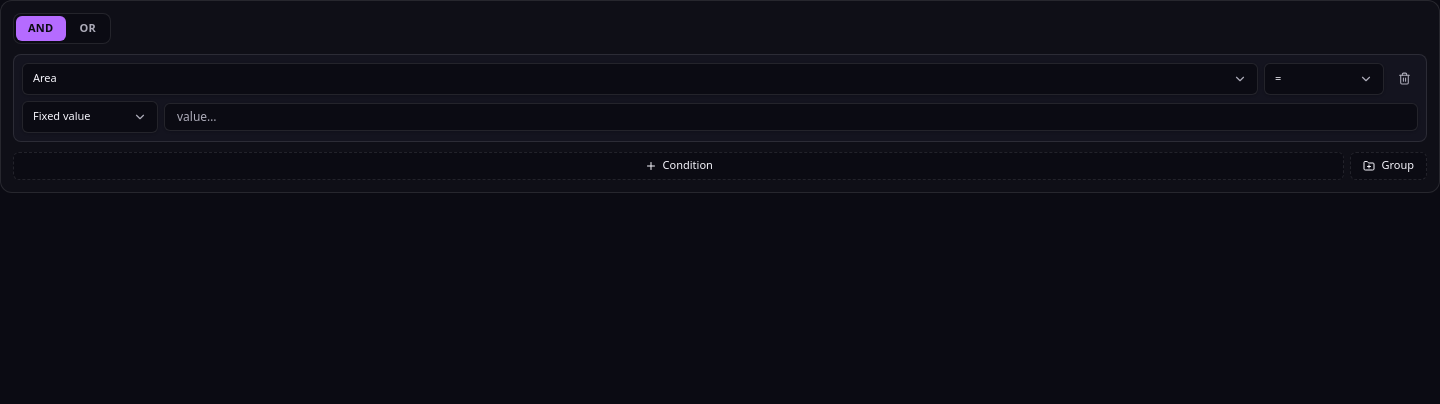
it: FilterBuilder viewer modes › never offers expressions, and drops the workflow-only operators
The image size is (1440, 404).
Press the mouse on the dropdown labelled "=" at (1324, 78), box [1264, 62, 1384, 94]
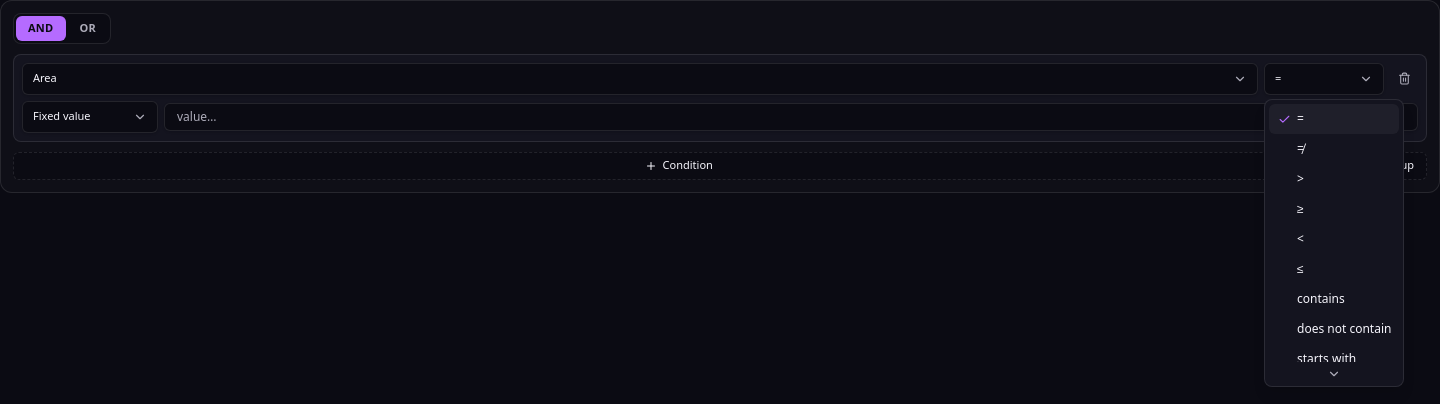
Expected: the option "=" is shown, [1269, 104, 1399, 134]
